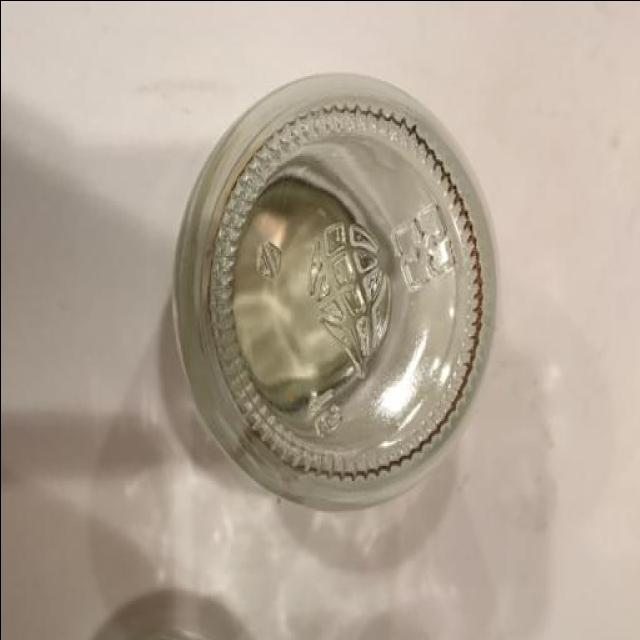glass: (168, 69, 504, 507)
